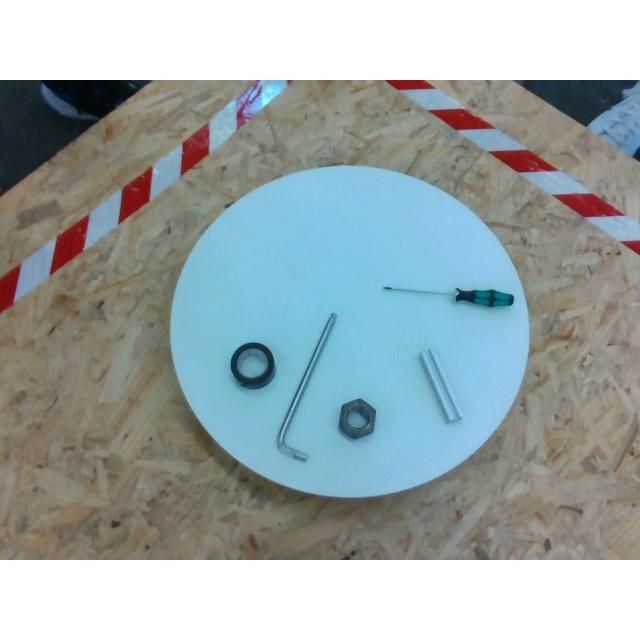AllenKey: (276, 313, 336, 461)
F20_20_G: (421, 350, 461, 422)
M30: (339, 398, 375, 438)
Screwdriver: (382, 285, 514, 307)
